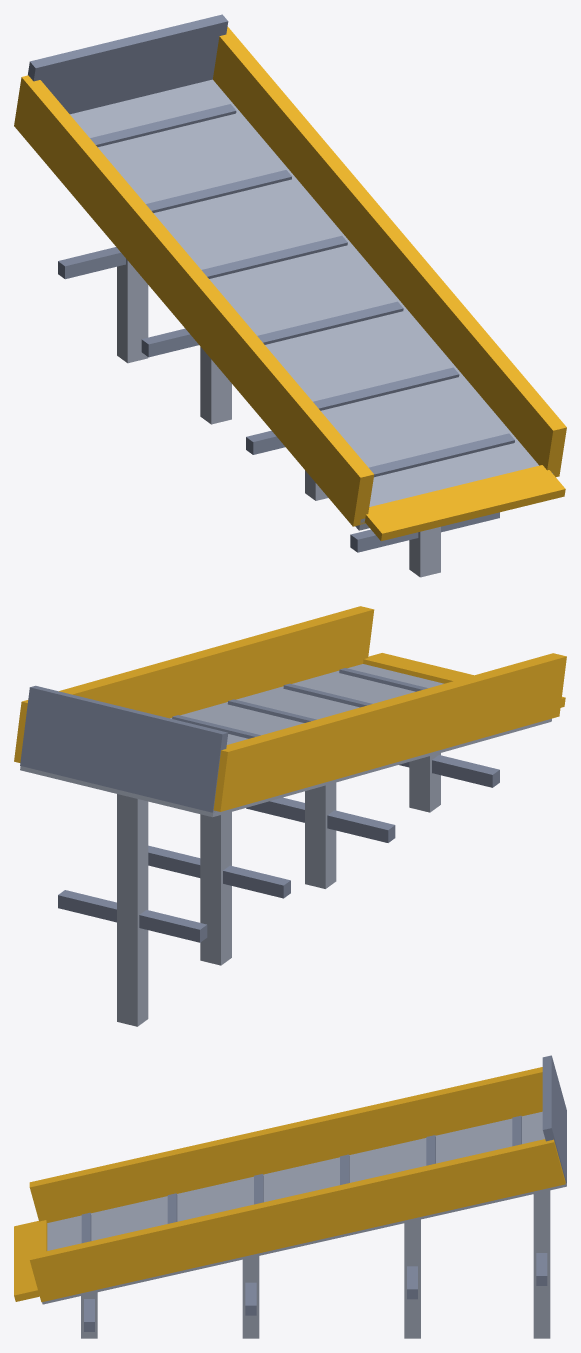
The model's file is slide.glb.
3 renders of one model, top to bottom at view 1: azimuth 30°, elevation 25°; view 2: azimuth 150°, elevation 25°; view 3: azimuth 270°, elevation 25°, orthographic. The views are drawn at different scales.
Visible parts, largest first — view 1: slide; view 2: slide; view 3: slide.
Boxes of the visible parts, x1,y1,x2,y2 form: slide: (14,14,566,577); slide: (14,606,566,1026); slide: (14,1055,566,1338).
Bounding box in the file's own units: 1 × 1.45 × 3.
